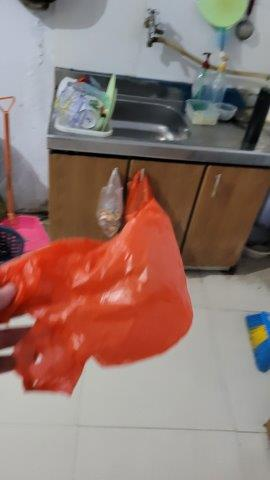plastik: (3, 202, 194, 386)
